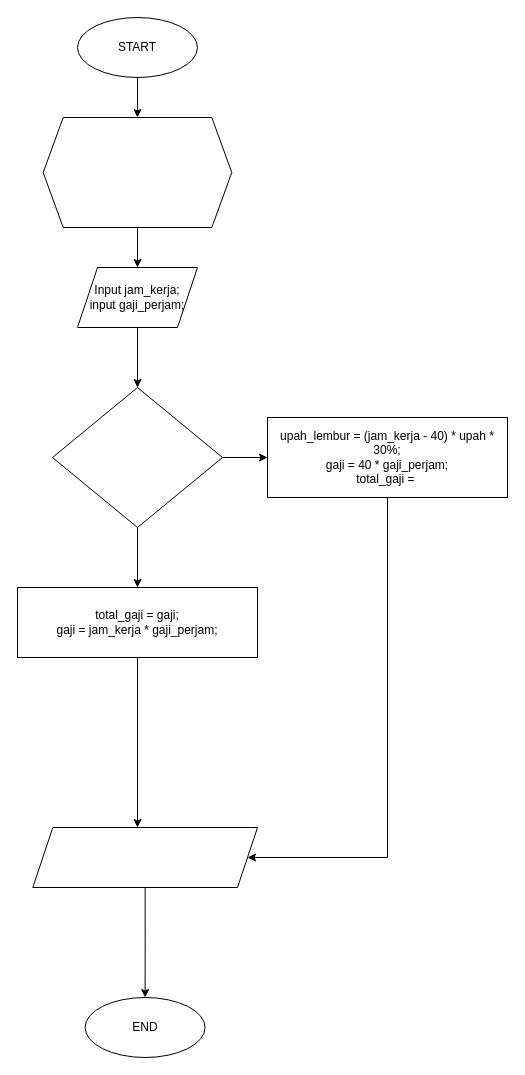
The diagram is 525 pixels wide and 1075 high, and some of its shapes have lost their labels. Each missing label, with the centre of its shape:
int jam_kerja; input gaji; int gaji_perjam; int upah_lembur; int total_gaji;: the point at 137,172
jam_kerja > 40 jam: the point at 137,457
Total total_gaji; upah_lembur;: the point at 145,857
